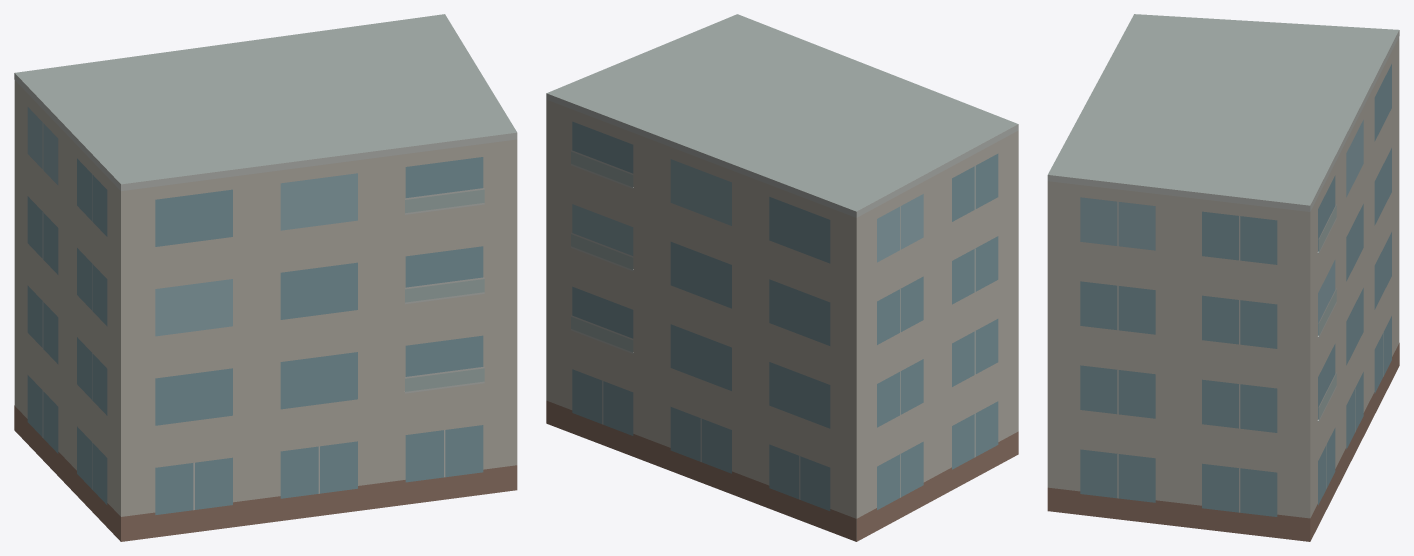
Rendered from survey-upis-32659185.glb.
3 views of the same model, side by side, from view 1: azimuth 30°, elevation 25°; view 2: azimuth 150°, elevation 25°; view 3: azimuth 270°, elevation 25° (orthographic). The views are drawn at different scales.
Visible parts, largest first — view 1: survey-upis-32659185.tmp; view 2: survey-upis-32659185.tmp; view 3: survey-upis-32659185.tmp.
Boxes of the visible parts, bbox=[...] form: survey-upis-32659185.tmp: bbox=[14, 14, 517, 541]; survey-upis-32659185.tmp: bbox=[546, 14, 1018, 541]; survey-upis-32659185.tmp: bbox=[1047, 14, 1399, 541].
Bounding box in the file's own units: 15.66 × 12.8 × 12.15.
